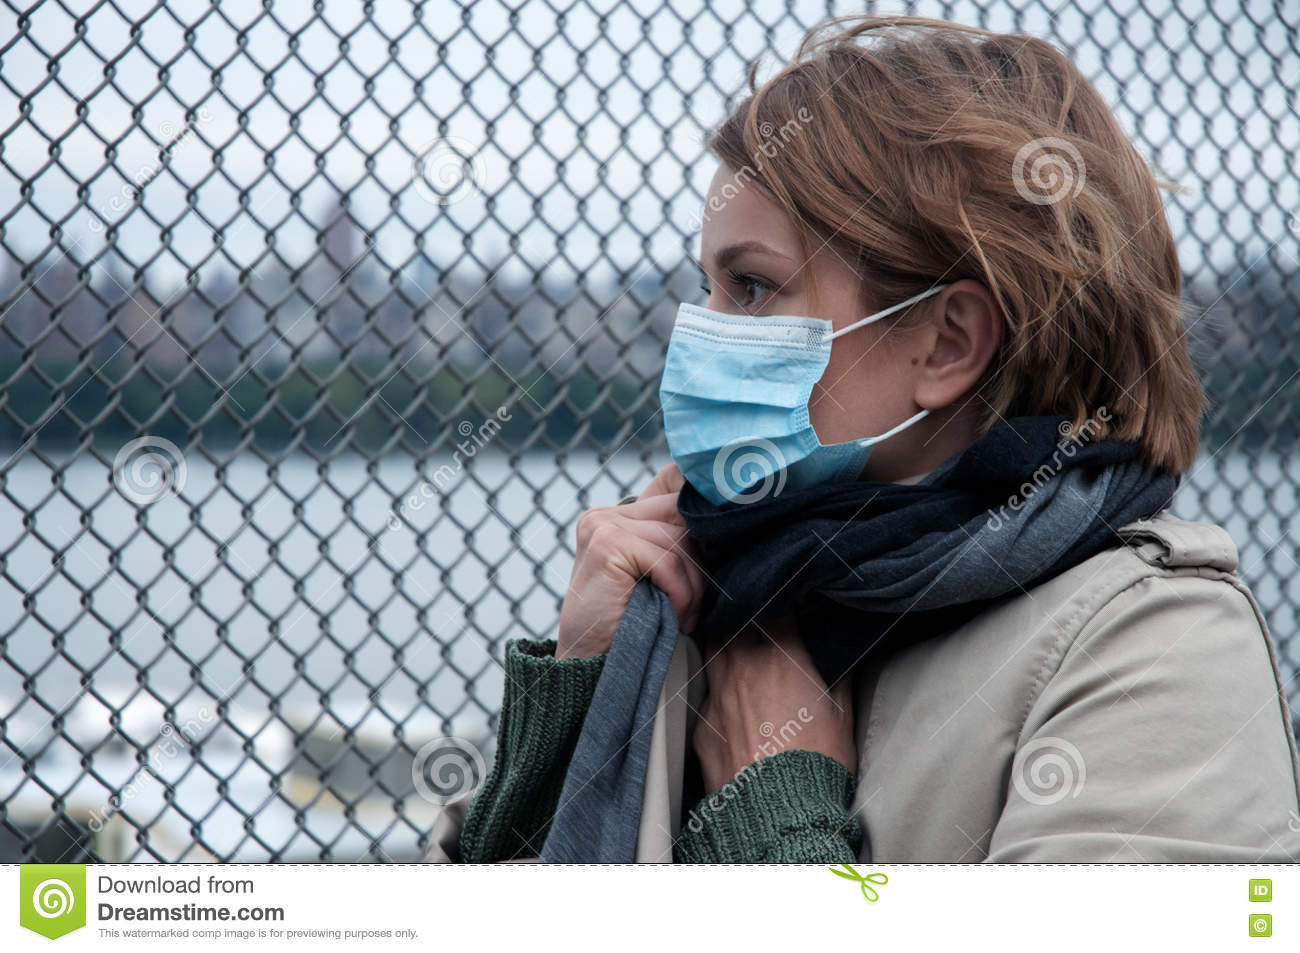mask: (658, 306, 871, 512)
